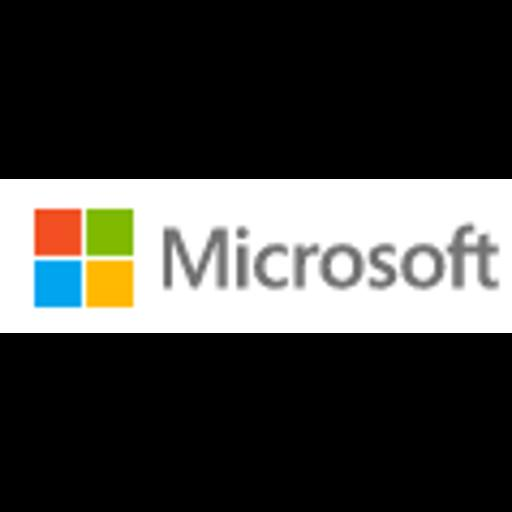Outlook: (0, 179, 512, 333)
